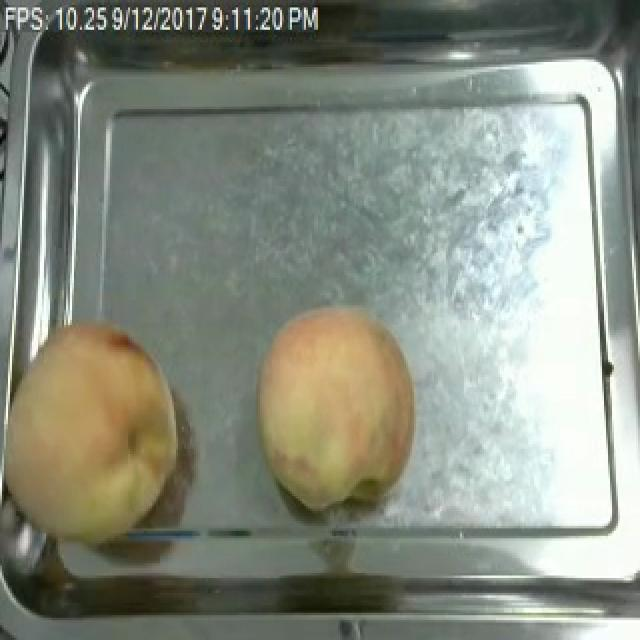Fruit: (2, 308, 190, 538), (246, 300, 426, 519)
